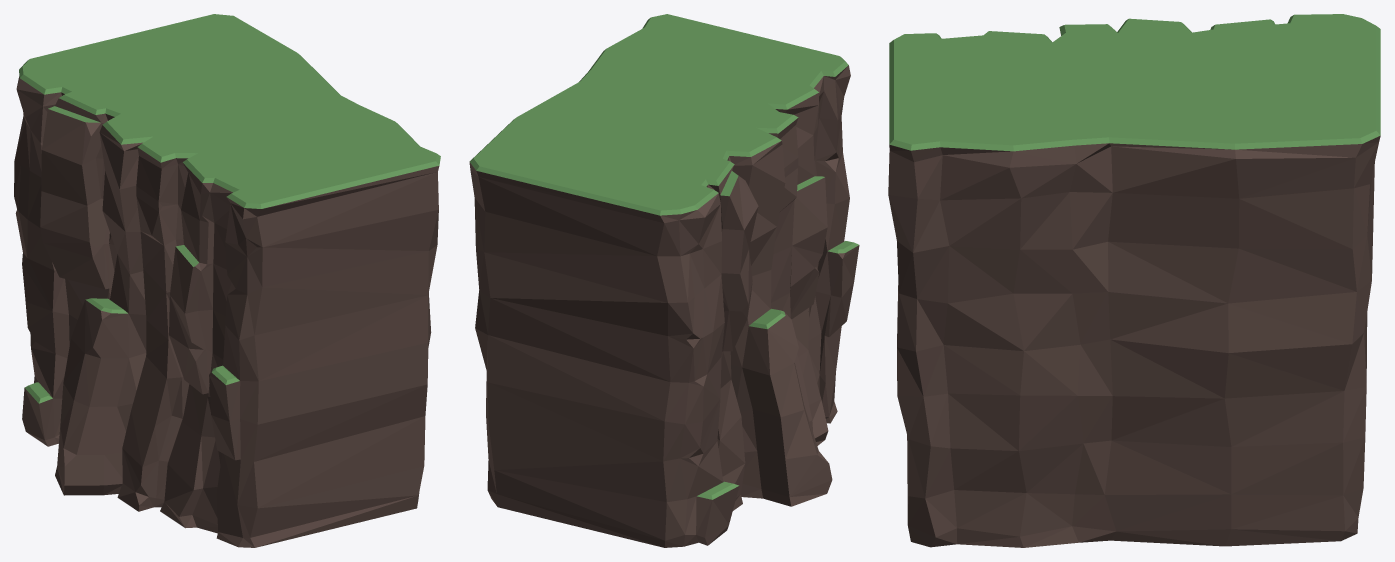
File: Cliff 2.fbx
3 views of the same model, side by side, from view 1: azimuth 30°, elevation 25°; view 2: azimuth 150°, elevation 25°; view 3: azimuth 270°, elevation 25° (orthographic). The views are drawn at different scales.
Parts seen in each view (by area): view 1: Cliff 8; view 2: Cliff 8; view 3: Cliff 8.
Part boxes in pixels (<box>): Cliff 8: <box>14,14,440,547</box>; Cliff 8: <box>469,14,859,547</box>; Cliff 8: <box>888,14,1380,547</box>.
Size of the model in its own units: 1.74 by 2.02 by 2.21.
